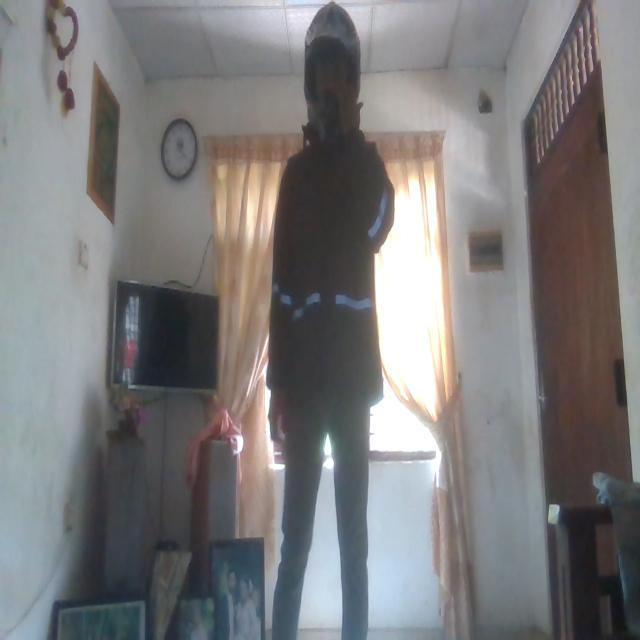Helmet_Wearer: (297, 0, 369, 147)
Jacket_Wearer: (270, 130, 392, 442)
Person: (268, 8, 394, 640)
